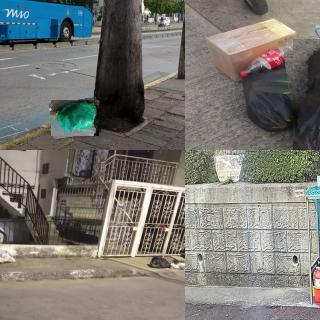Garbage: (238, 57, 318, 134), (50, 99, 100, 138), (148, 254, 171, 270), (0, 247, 20, 265), (170, 259, 185, 270)
